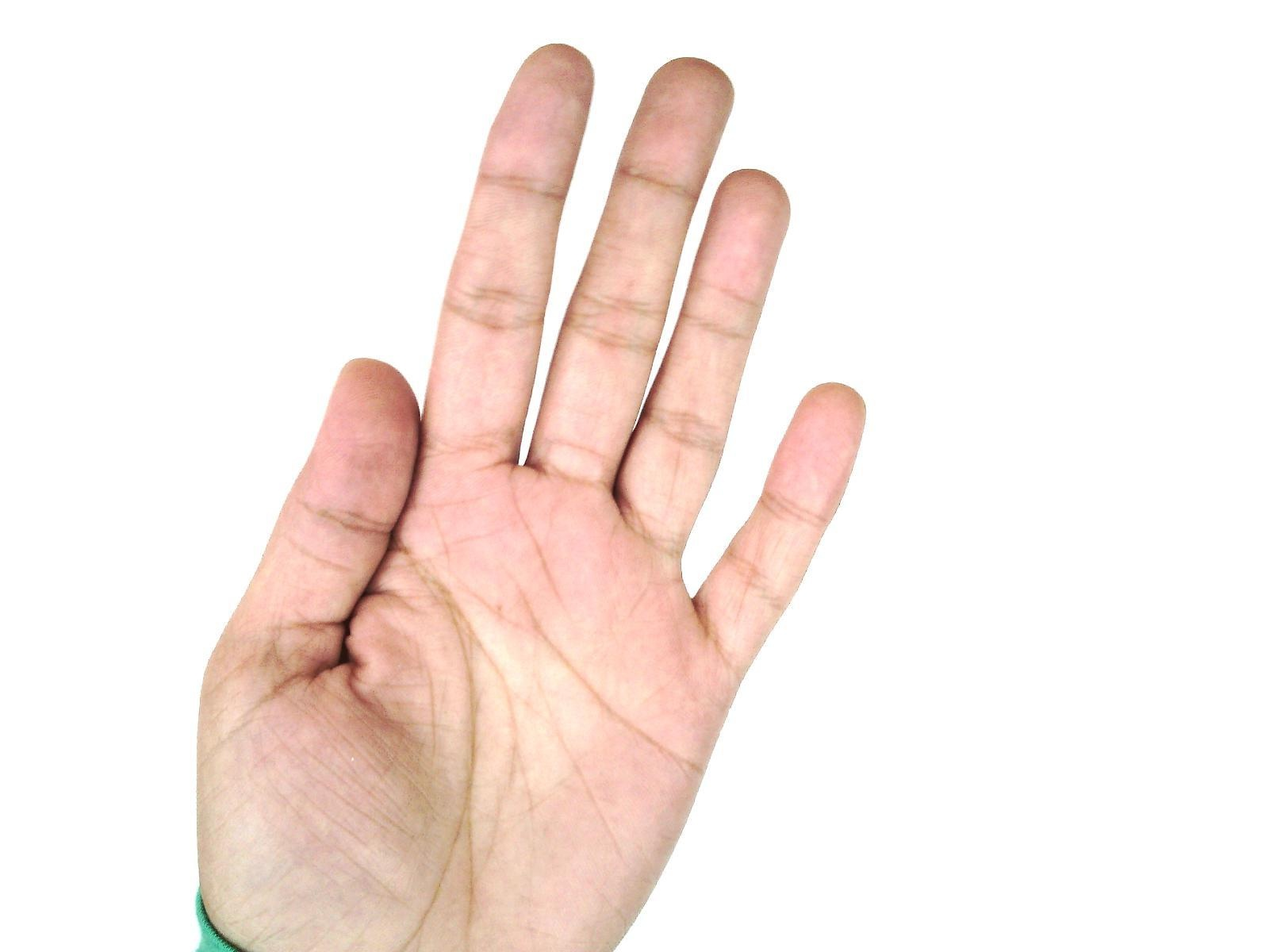open_palm: (191, 42, 870, 951)
